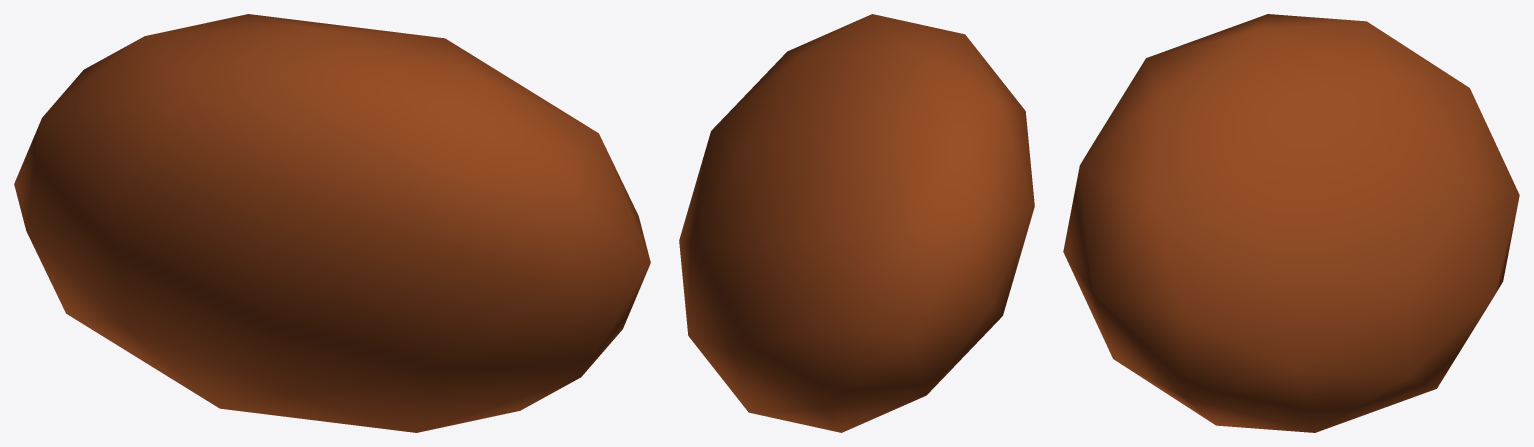
File: Rock1.fbx
The picture shows the model from 3 angles, left to right: view 1: azimuth 30°, elevation 25°; view 2: azimuth 150°, elevation 25°; view 3: azimuth 270°, elevation 25°; orthographic projection. The views are drawn at different scales.
Parts seen in each view (by area): view 1: Icosphere.014; view 2: Icosphere.014; view 3: Icosphere.014.
Part boxes in pixels (box(x1,y1,x2,y2)): Icosphere.014: box(14, 14, 650, 432); Icosphere.014: box(679, 14, 1034, 432); Icosphere.014: box(1063, 14, 1519, 432).
Bounding box in the file's own units: 415 × 369 × 434.
